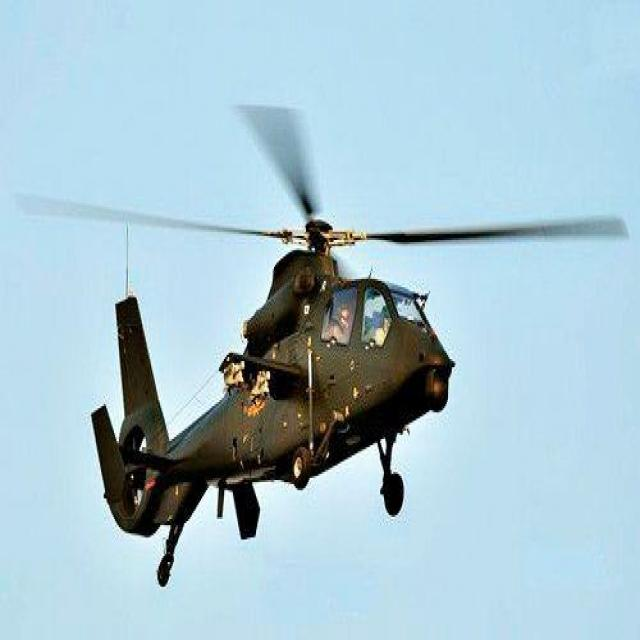MIL_HELO: (5, 94, 637, 588)
